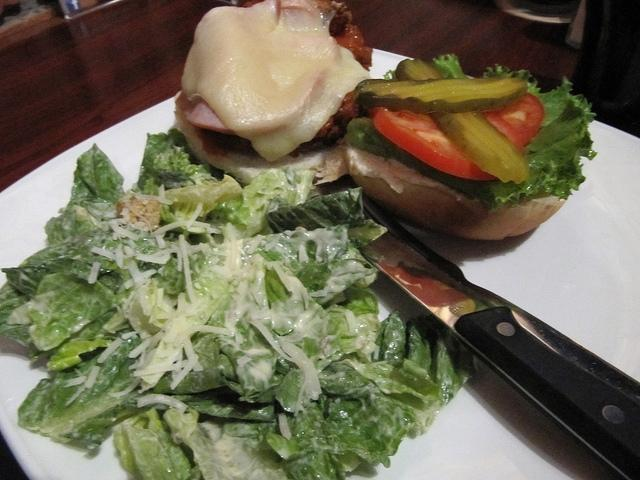lettuce: (347, 54, 598, 213), (49, 228, 122, 270), (432, 52, 469, 78)
tomato: (366, 92, 544, 180)
